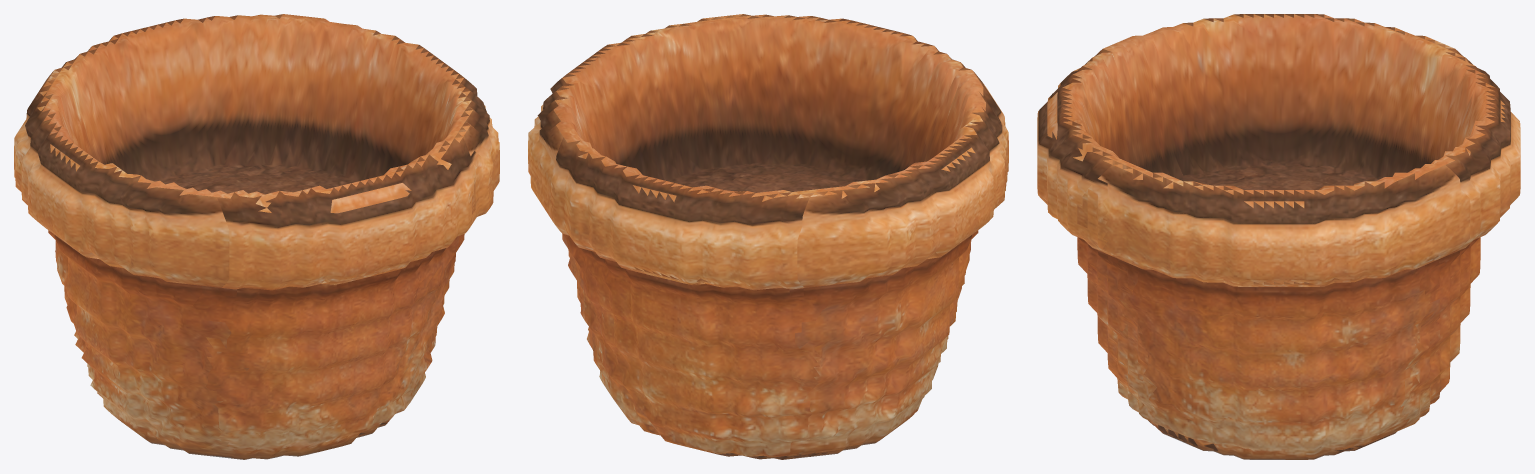
Rendered from pot.glb.
3 renders of one model, left to right at view 1: azimuth 30°, elevation 25°; view 2: azimuth 150°, elevation 25°; view 3: azimuth 270°, elevation 25°, orthographic.
Size of the model in its own units: 1.37 by 0.9386 by 1.39.
1 material, 1 textured.
